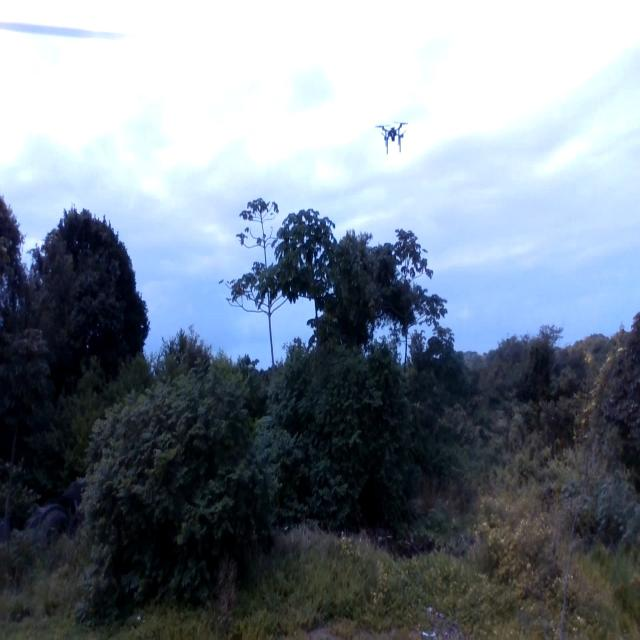-uav-: (373, 117, 415, 163)
